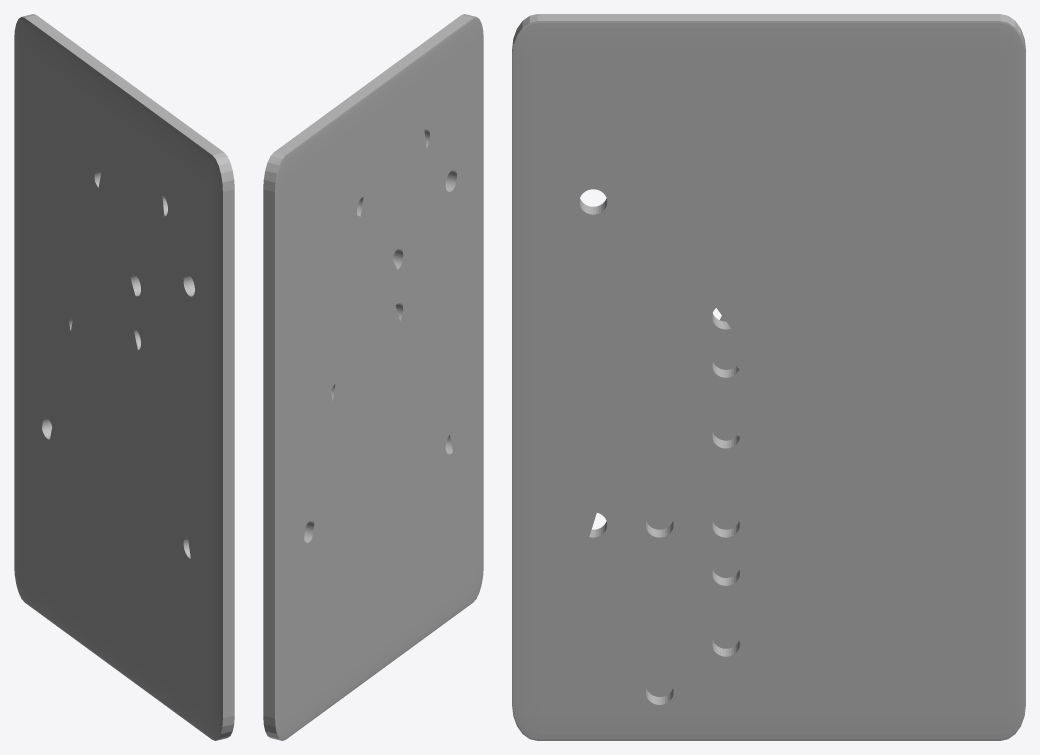
Rendered from card.fbx.
The picture shows the model from 3 angles, left to right: view 1: azimuth 30°, elevation 25°; view 2: azimuth 150°, elevation 25°; view 3: azimuth 270°, elevation 25°; orthographic projection. The views are drawn at different scales.
Parts seen in each view (by area): view 1: Cube; view 2: Cube; view 3: Cube.
Boxes of the visible parts, left/top/right/bottom form: Cube: left=14, top=14, right=234, bottom=740; Cube: left=263, top=14, right=483, bottom=740; Cube: left=512, top=14, right=1025, bottom=740.
Size of the model in its own units: 0.2001 by 8.5 by 5.5.
